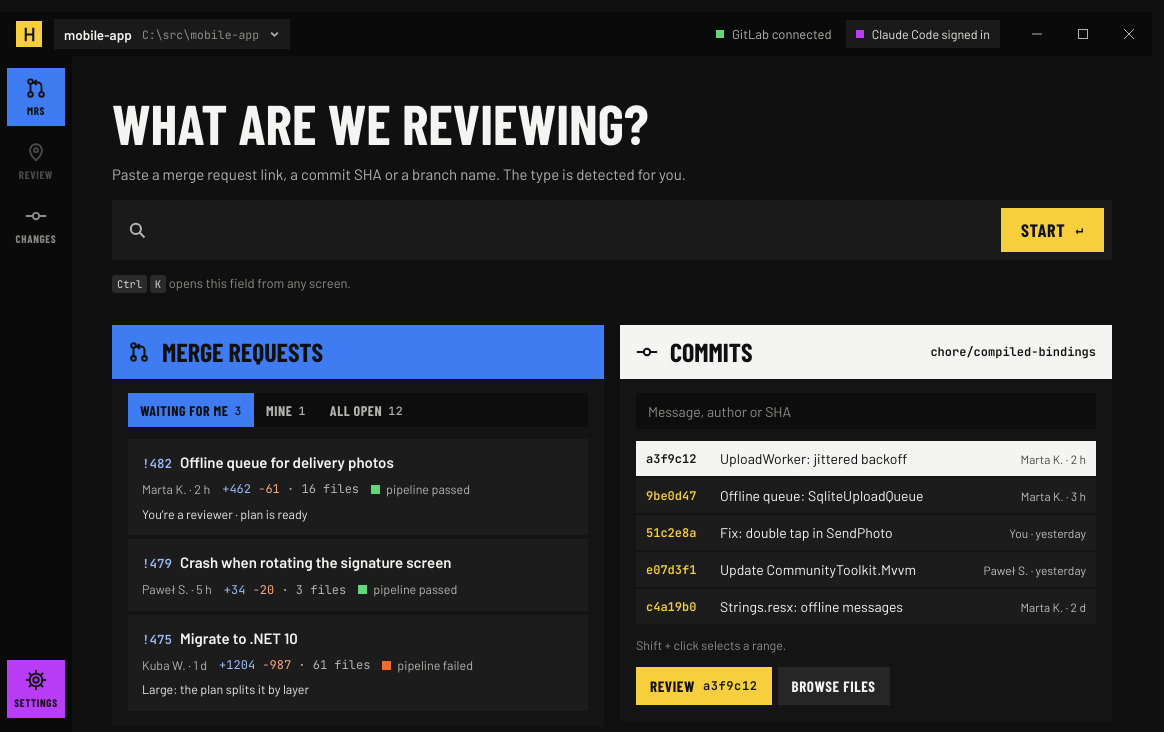
Scenario: S-01 Commits › F-03.1 a search without matches shows "No commits match."
The image size is (1164, 732).
In the field named "Search commits": coordinates (866, 411) top-left (636, 393), bottom-right (1096, 429), type "zzz-nothing"
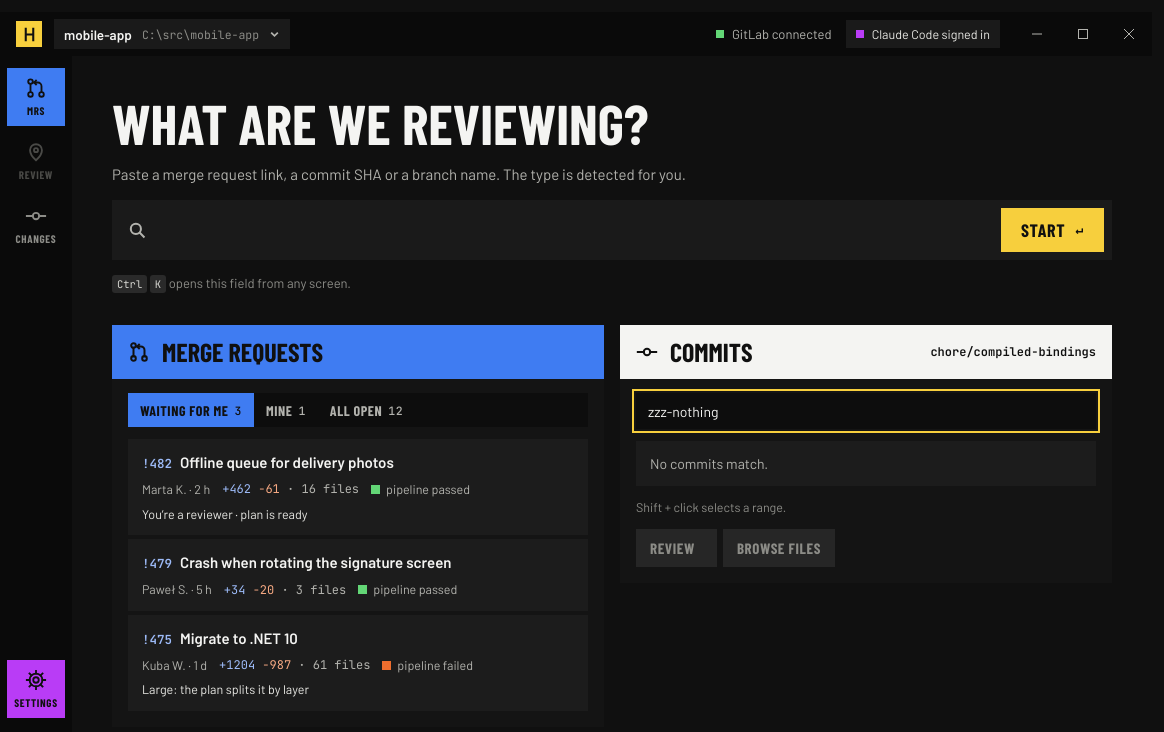
Now the text "No commits match." is shown, box top-left (636, 441), bottom-right (1096, 486)
Now no options are shown
